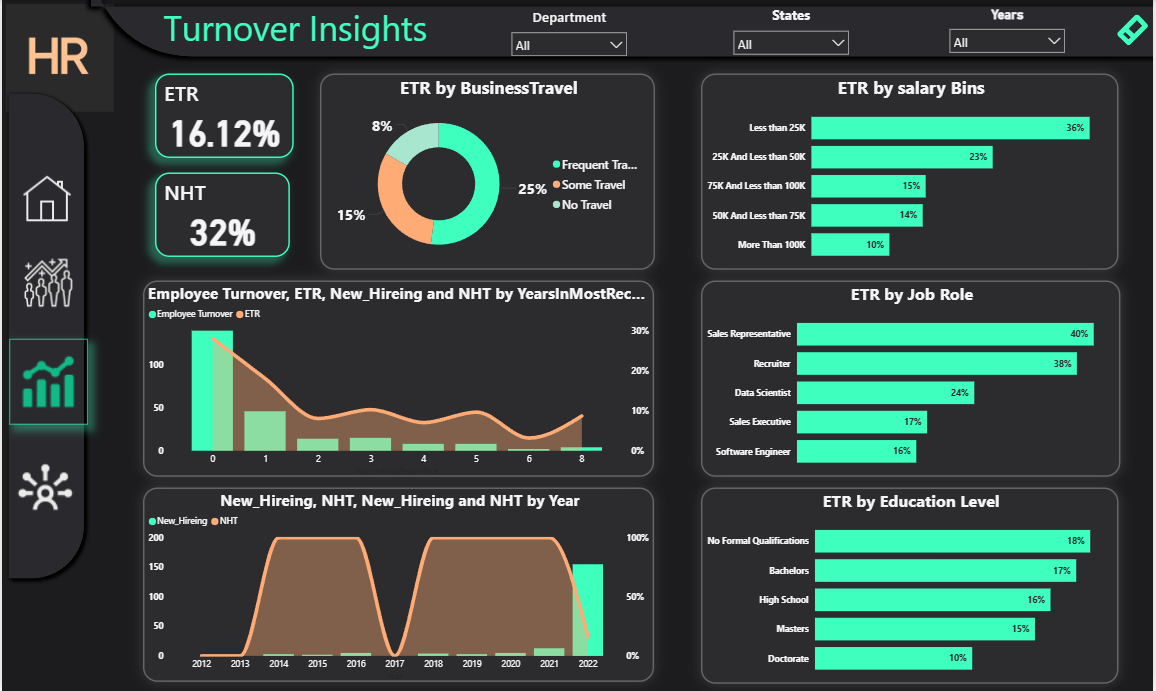

This screenshot's page, from the dashboard's own definition file:
{"tool":"powerbi","page":{"name":"Turnover insights","canvas":[1600,960],"ordinal":2},"visuals":[{"type":"image","box":[0,0,160,160],"z":0},{"type":"group","id":"g1","title":"Group 1","box":[115,0,1525,87.5],"z":1000},{"type":"shape","box":[0,120.9,123,691.9],"z":2000},{"type":"lineStackedColumnComboChart","fields":{"Category":["DimDate.Date.Variation.Date Hierarchy.Year"],"Y2":["Measure.NHT"],"Y":["Measure.New_Hireing"]},"box":[195.8,676.7,710,270],"z":3000},{"type":"card","title":"ETR","fields":{"Values":["Measure.ETR"]},"box":[213.3,101.7,192.5,117.5],"z":4000},{"type":"card","title":"NHT","fields":{"Values":["Measure.NHT"]},"box":[213.3,239.2,187.5,117.5],"z":5000},{"type":"shape","box":[115,0,1525,87.5],"z":5500,"group":"g1"},{"type":"textbox","box":[120,0,577.5,87.5],"z":6000,"group":"g1"},{"type":"barChart","title":"ETR by salary Bins","fields":{"Category":["DimEmployee.salaryBins"],"Y":["Measure.ETR"]},"box":[970.8,101.7,580,272.5],"z":6000},{"type":"barChart","title":"ETR by Job Role","fields":{"Y":["Measure.ETR"],"Category":["DimEmployee.JobRole"]},"box":[970.8,389.2,582.5,272.5],"z":7000},{"type":"actionButton","box":[1535,17.5,70,50],"z":8000},{"type":"lineStackedColumnComboChart","fields":{"Category":["DimEmployee.YearsInMostRecentRole"],"Y2":["Measure.ETR"],"Y":["Measure.Employee Turnover"]},"box":[195.8,389.2,710,272.5],"z":9000},{"type":"donutChart","fields":{"Y":["Measure.ETR"],"Category":["DimEmployee.BusinessTravel"]},"box":[440.8,101.7,465,272.5],"z":10000},{"type":"slicer","title":"Department","fields":{"Values":["DimEmployee.Department"]},"box":[697.5,10,180,67.5],"z":11000},{"type":"slicer","title":"States","fields":{"Values":["DimEmployee.State"]},"box":[1007.5,7.5,180,70],"z":12000},{"type":"slicer","title":"Years","fields":{"Values":["DimDate.Date.Variation.Date Hierarchy.Year"]},"box":[1307.5,10,180,67.5],"z":13000},{"type":"barChart","title":"ETR by Education Level","fields":{"Y":["Measure.ETR"],"Category":["DimEducationLevel.EducationLevel"]},"box":[970.8,676.7,580,272.5],"z":14000},{"type":"image","box":[6.3,625.2,108.4,102.1],"z":15000},{"type":"image","box":[8.3,237.6,108.4,79.2],"z":16000},{"type":"image","box":[10.4,352.9,108.4,81.3],"z":17000},{"type":"image","box":[10.4,470.3,108.4,118.8],"z":18000}]}

Visuals, with their boxes in screenshot pixels (x1, y1, x2, y2), scaled from the page's 1600x960 canvas onto the 1156x691 screenshot:
image: {"left": 0, "top": 0, "right": 116, "bottom": 115}
"Group 1" group: {"left": 83, "top": 0, "right": 1155, "bottom": 63}
shape: {"left": 0, "top": 87, "right": 89, "bottom": 585}
lineStackedColumnComboChart - DimDate.Date.Variation.Date Hierarchy.Year x Measure.NHT: {"left": 141, "top": 487, "right": 654, "bottom": 681}
"ETR" card: {"left": 154, "top": 73, "right": 293, "bottom": 158}
"NHT" card: {"left": 154, "top": 172, "right": 290, "bottom": 257}
shape: {"left": 83, "top": 0, "right": 1155, "bottom": 63}
textbox: {"left": 87, "top": 0, "right": 504, "bottom": 63}
"ETR by salary Bins" barChart: {"left": 701, "top": 73, "right": 1120, "bottom": 269}
"ETR by Job Role" barChart: {"left": 701, "top": 280, "right": 1122, "bottom": 476}
actionButton: {"left": 1109, "top": 13, "right": 1155, "bottom": 49}
lineStackedColumnComboChart - DimEmployee.YearsInMostRecentRole x Measure.ETR: {"left": 141, "top": 280, "right": 654, "bottom": 476}
donutChart - Measure.ETR x DimEmployee.BusinessTravel: {"left": 318, "top": 73, "right": 654, "bottom": 269}
"Department" slicer: {"left": 504, "top": 7, "right": 634, "bottom": 56}
"States" slicer: {"left": 728, "top": 5, "right": 858, "bottom": 56}
"Years" slicer: {"left": 945, "top": 7, "right": 1075, "bottom": 56}
"ETR by Education Level" barChart: {"left": 701, "top": 487, "right": 1120, "bottom": 683}
image: {"left": 5, "top": 450, "right": 83, "bottom": 524}
image: {"left": 6, "top": 171, "right": 84, "bottom": 228}
image: {"left": 8, "top": 254, "right": 86, "bottom": 313}
image: {"left": 8, "top": 339, "right": 86, "bottom": 424}
